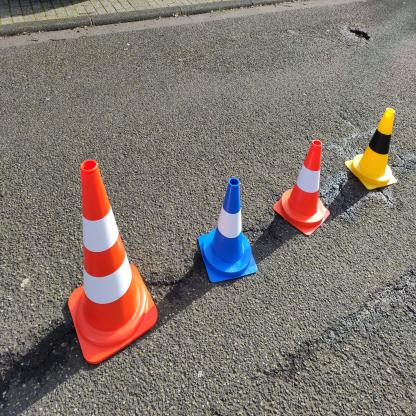Cones_big: (42, 146, 168, 375)
Cones_small_blue: (189, 156, 265, 293)
Cones_small_orange: (262, 127, 334, 247)
Cones_small_yellow: (342, 99, 403, 197)
